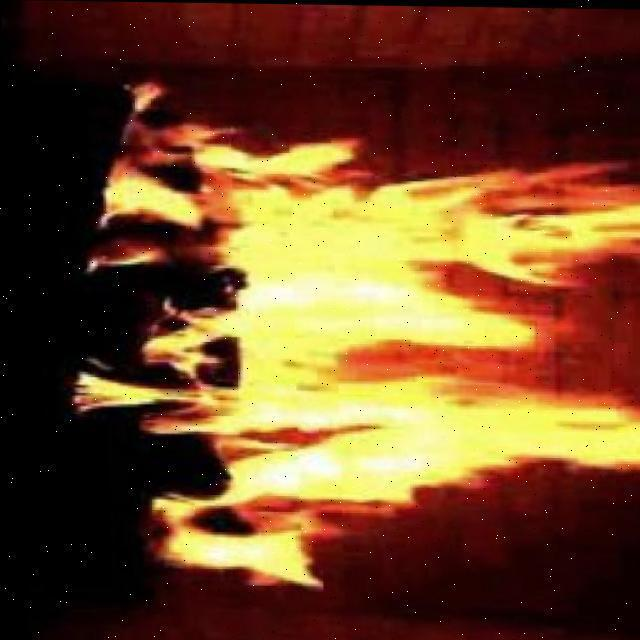fire: (140, 159, 611, 566)
